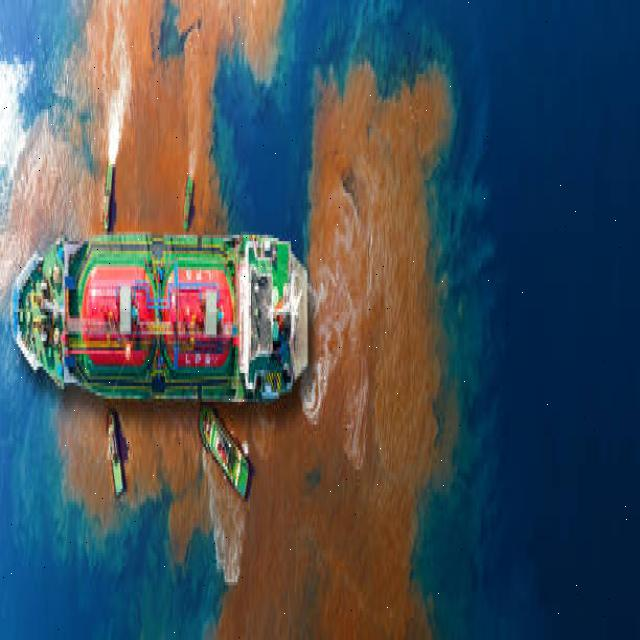truecolor: (314, 73, 428, 640), (9, 11, 213, 232), (248, 395, 308, 640)
